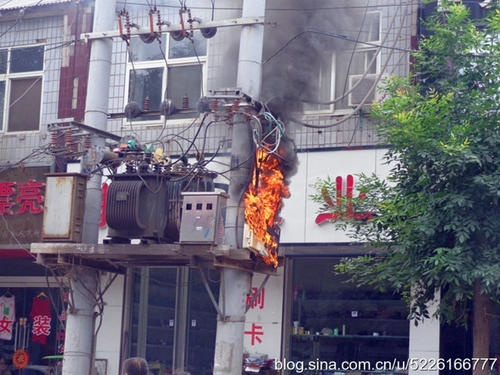fire: (243, 144, 287, 266)
